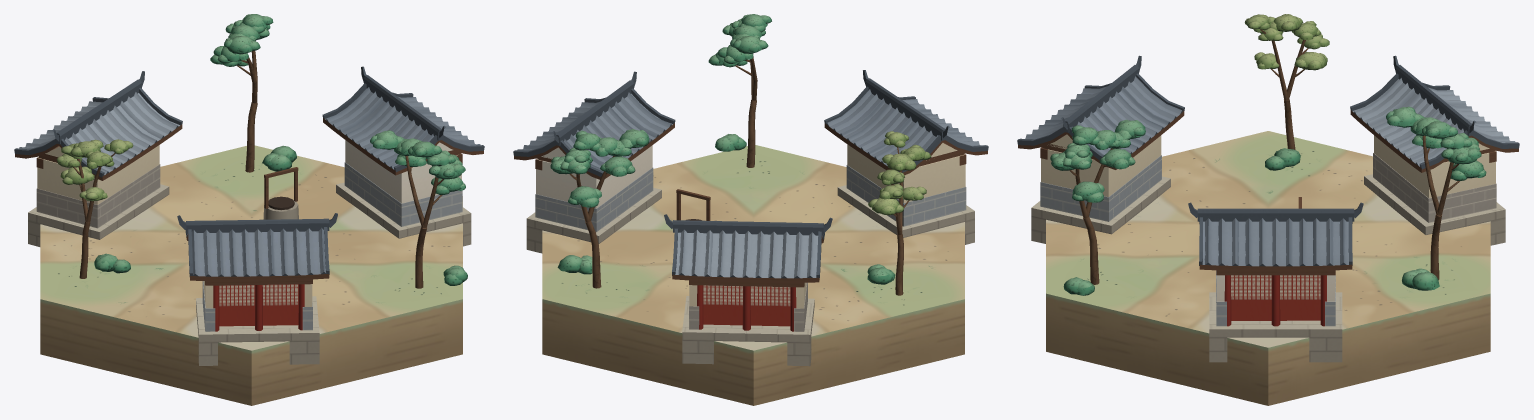
Rendered from Hex_Town.glb.
The picture shows the model from 3 angles, left to right: view 1: azimuth 30°, elevation 25°; view 2: azimuth 150°, elevation 25°; view 3: azimuth 270°, elevation 25°; orthographic projection. The views are drawn at different scales.
Visible parts, largest first — view 1: Hex_Town; view 2: Hex_Town; view 3: Hex_Town.
Part boxes in pixels (box(x1,y1,x2,y2)): Hex_Town: box(14, 14, 484, 405); Hex_Town: box(513, 14, 988, 405); Hex_Town: box(1017, 14, 1519, 405).
Bounding box in the file's own units: 8 × 3.74 × 7.83.
Materials: 2 (2 with a texture image).
